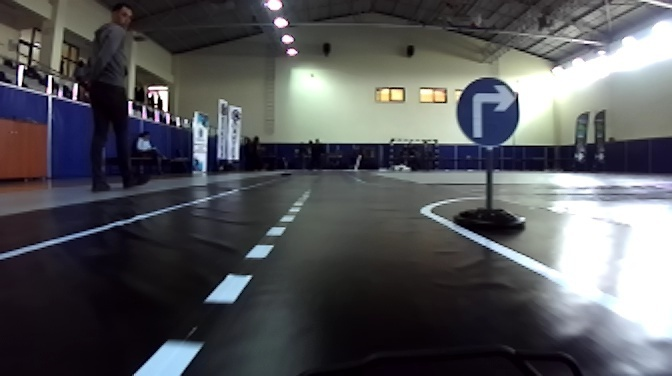saga_donus: (453, 77, 520, 146)
